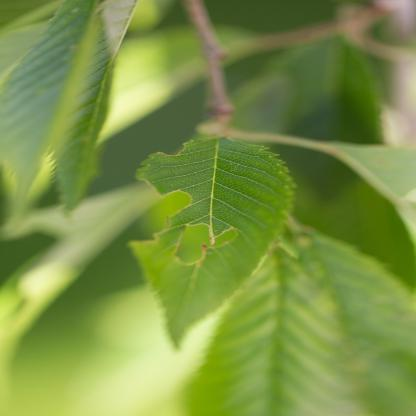Cherry leaf: (117, 117, 306, 368)
